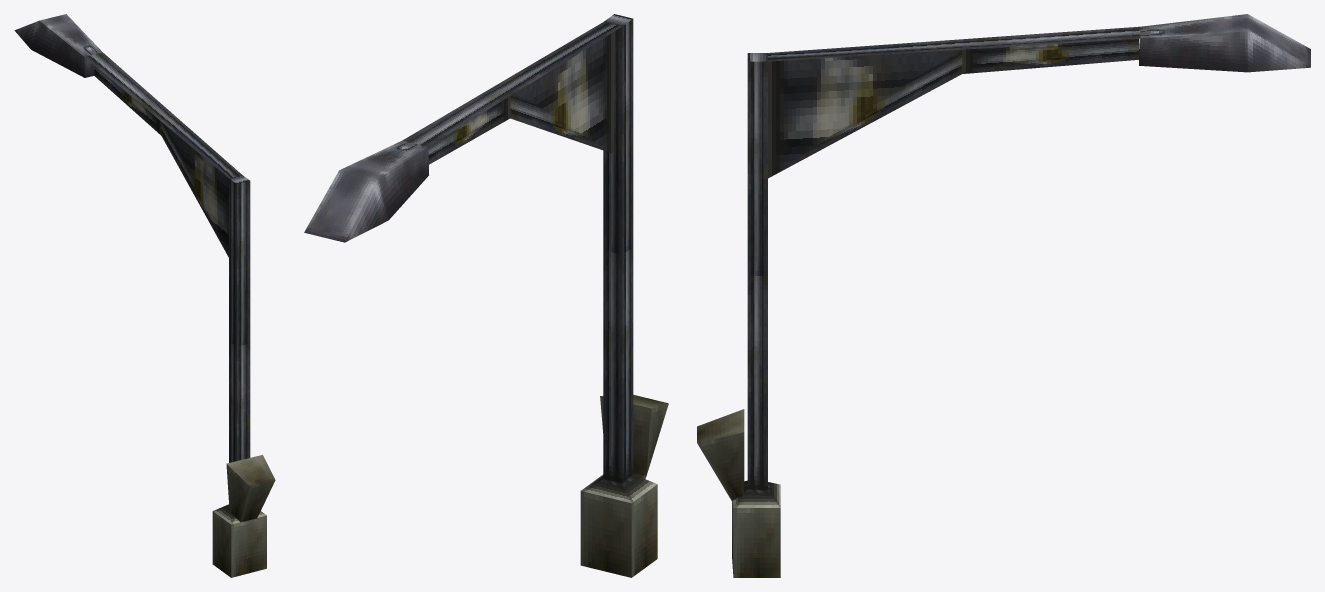
3 renders of one model, left to right at view 1: azimuth 30°, elevation 25°; view 2: azimuth 150°, elevation 25°; view 3: azimuth 270°, elevation 25°, orthographic. The views are drawn at different scales.
Parts seen in each view (by area): view 1: prim001-Line02.001; view 2: prim001-Line02.001; view 3: prim001-Line02.001.
Part boxes in pixels (x1,y1,x2,y2): prim001-Line02.001: (14,14,275,577); prim001-Line02.001: (304,14,668,577); prim001-Line02.001: (697,14,1310,577).
Bounding box in the file's own units: 42 × 380 × 389.
2 materials, 2 textured.
